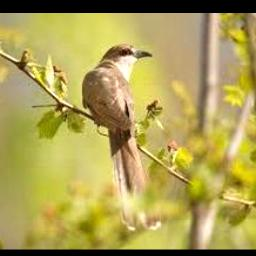Cuckoo: (81, 43, 160, 230)
